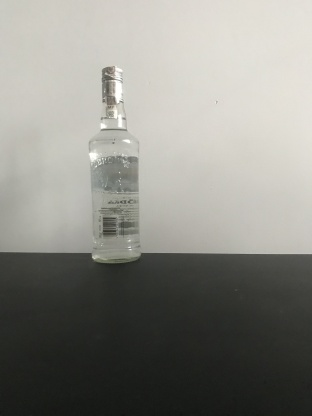nakretka: (99, 64, 125, 103)
